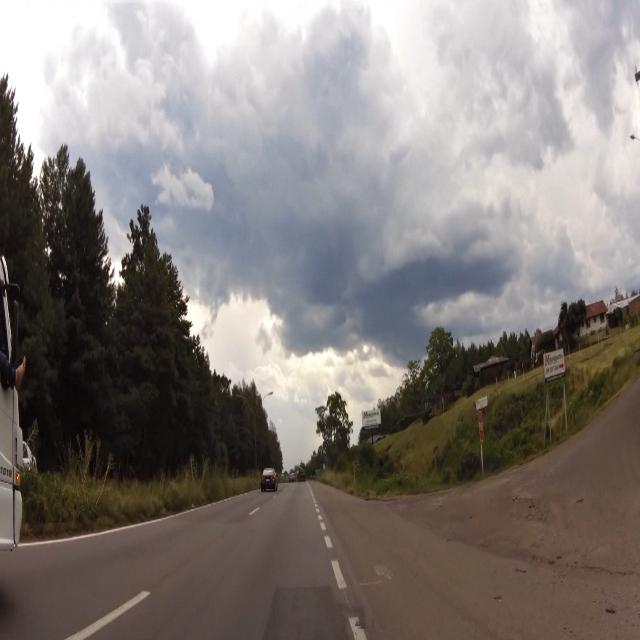R-1: (477, 411, 488, 442)
